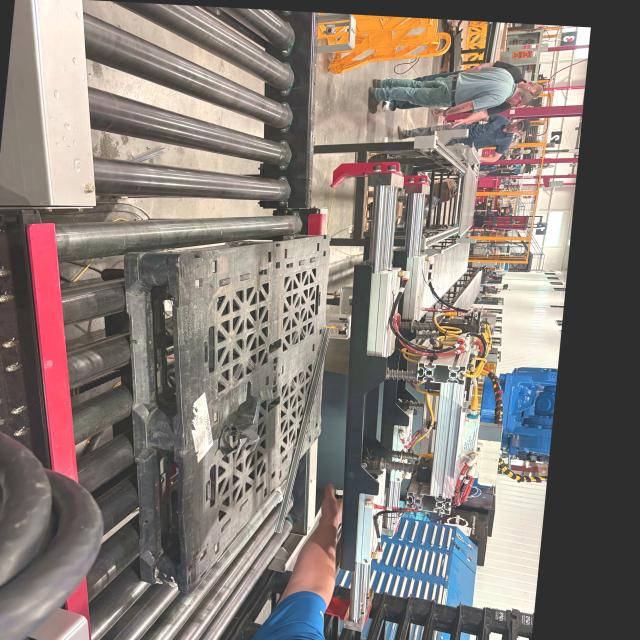igps: (107, 229, 342, 603)
